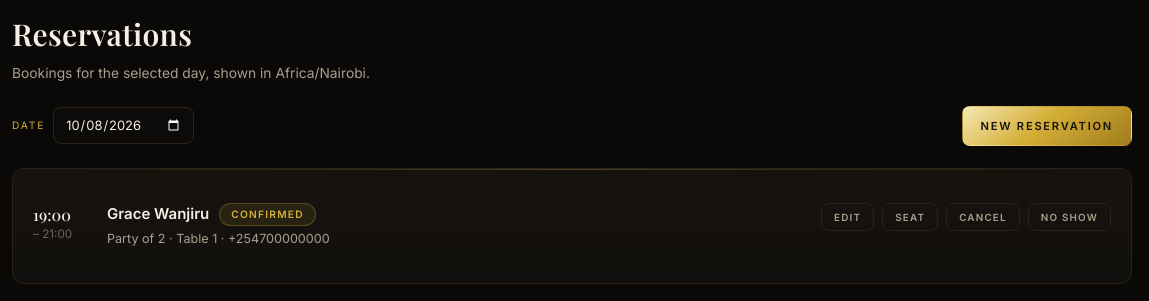
Test: reservation status transitions › advances the status and reloads the day
Click the button "Seat" at (910, 217), box left=882, top=203, right=938, bottom=231
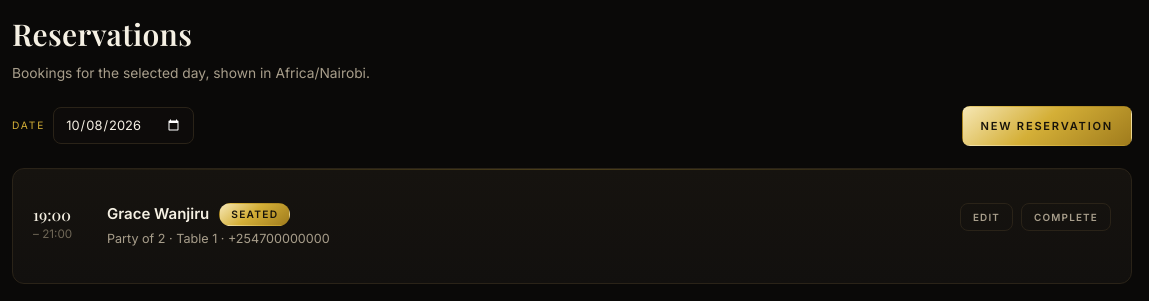
Expected: the text "Seated" is shown, left=219, top=203, right=290, bottom=226
